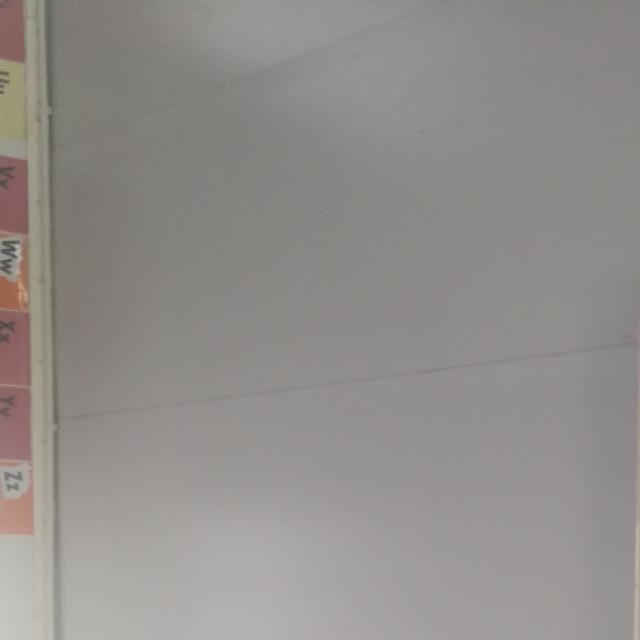fluorescent tube: (551, 237, 640, 640)
